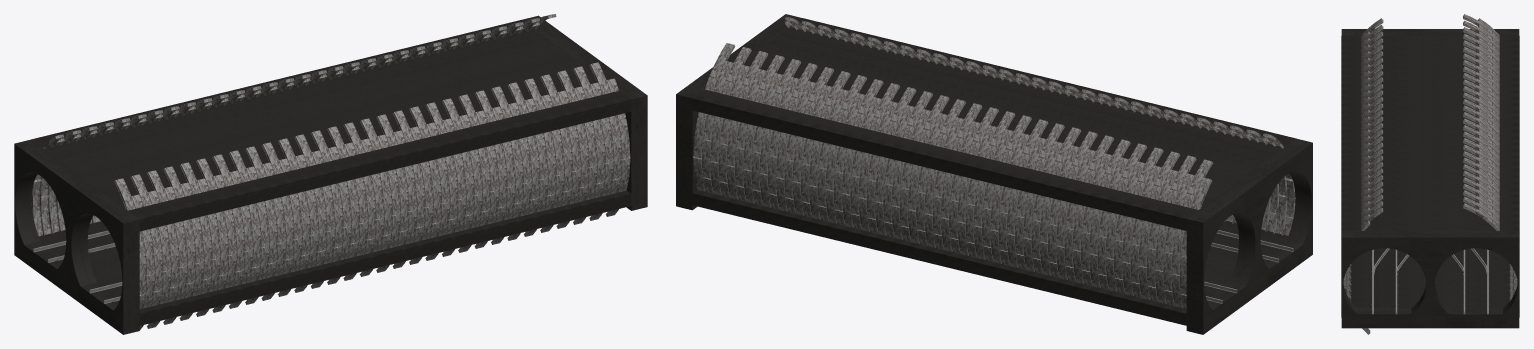
File: tunnel junction 2way.fbx
3 renders of one model, left to right at view 1: azimuth 30°, elevation 25°; view 2: azimuth 150°, elevation 25°; view 3: azimuth 270°, elevation 25°, orthographic. The views are drawn at different scales.
Parts seen in each view (by area): view 1: tunnel delimeter_low.007, tunnel delimeter_low.008, tunnel bottom_low.210, tunnel ring.249, tunnel bottom_low.246, tunnel bottom_low.212, tunnel bottom_low.256, tunnel bottom_low.220, tunnel bottom_low.238, tunnel bottom_low.216, tunnel bottom_low.252, tunnel bottom_low.264 (+84 smaller); view 2: tunnel delimeter_low.007, tunnel delimeter_low.008, tunnel bottom_low.210, tunnel ring.250, tunnel ring.249, tunnel ring.251, tunnel ring.252, tunnel bottom_low.212, tunnel ring.256, tunnel ring.296, tunnel ring.264, tunnel ring.260 (+84 smaller); view 3: tunnel delimeter_low.008, tunnel bottom_low.268, tunnel bottom_low.266, tunnel bottom_low.259, tunnel bottom_low.261, tunnel bottom_low.238, tunnel bottom_low.230, tunnel bottom_low.234, tunnel bottom_low.242, tunnel bottom_low.226, tunnel bottom_low.263, tunnel bottom_low.264 (+91 smaller).
Part boxes in pixels (bbox=[...]): tunnel delimeter_low.007: bbox=[14, 139, 139, 334]; tunnel delimeter_low.008: bbox=[522, 15, 647, 210]; tunnel bottom_low.210: bbox=[31, 135, 156, 231]; tunnel ring.249: bbox=[31, 134, 146, 309]; tunnel bottom_low.246: bbox=[326, 63, 451, 159]; tunnel bottom_low.212: bbox=[47, 131, 172, 227]; tunnel bottom_low.256: bbox=[408, 43, 532, 139]; tunnel bottom_low.220: bbox=[113, 115, 237, 211]; tunnel bottom_low.238: bbox=[260, 79, 385, 175]; tunnel bottom_low.216: bbox=[80, 123, 205, 219]; tunnel bottom_low.252: bbox=[375, 51, 500, 147]; tunnel bottom_low.264: bbox=[473, 27, 598, 123]; tunnel delimeter_low.007: bbox=[1186, 138, 1312, 334]; tunnel delimeter_low.008: bbox=[676, 14, 801, 210]; tunnel bottom_low.210: bbox=[1170, 134, 1296, 230]; tunnel ring.250: bbox=[1171, 137, 1285, 308]; tunnel ring.249: bbox=[1179, 133, 1295, 308]; tunnel ring.251: bbox=[1163, 129, 1277, 306]; tunnel ring.252: bbox=[1155, 133, 1268, 304]; tunnel bottom_low.212: bbox=[1153, 130, 1279, 226]; tunnel ring.256: bbox=[1122, 125, 1233, 295]; tunnel ring.296: bbox=[792, 45, 892, 215]; tunnel ring.264: bbox=[1056, 109, 1157, 279]; tunnel ring.260: bbox=[1089, 117, 1189, 287]; tunnel delimeter_low.008: bbox=[1341, 231, 1519, 328]; tunnel bottom_low.268: bbox=[1341, 224, 1519, 240]; tunnel bottom_low.266: bbox=[1341, 218, 1519, 224]; tunnel bottom_low.259: bbox=[1341, 275, 1519, 281]; tunnel bottom_low.261: bbox=[1341, 282, 1519, 288]; tunnel bottom_low.238: bbox=[1341, 126, 1519, 133]; tunnel bottom_low.230: bbox=[1341, 100, 1519, 107]; tunnel bottom_low.234: bbox=[1341, 113, 1519, 120]; tunnel bottom_low.242: bbox=[1341, 139, 1519, 146]; tunnel bottom_low.226: bbox=[1341, 87, 1519, 94]; tunnel bottom_low.263: bbox=[1341, 288, 1519, 294]; tunnel bottom_low.264: bbox=[1341, 211, 1519, 217].
Bounding box in the file's own units: 1155 × 3200 × 921.
